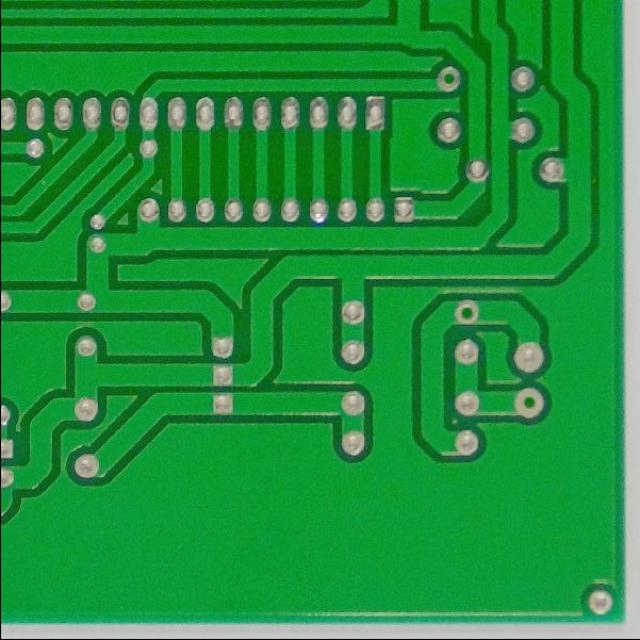Missing_Hole: (508, 384, 551, 419), (450, 296, 482, 326), (434, 64, 464, 94)
